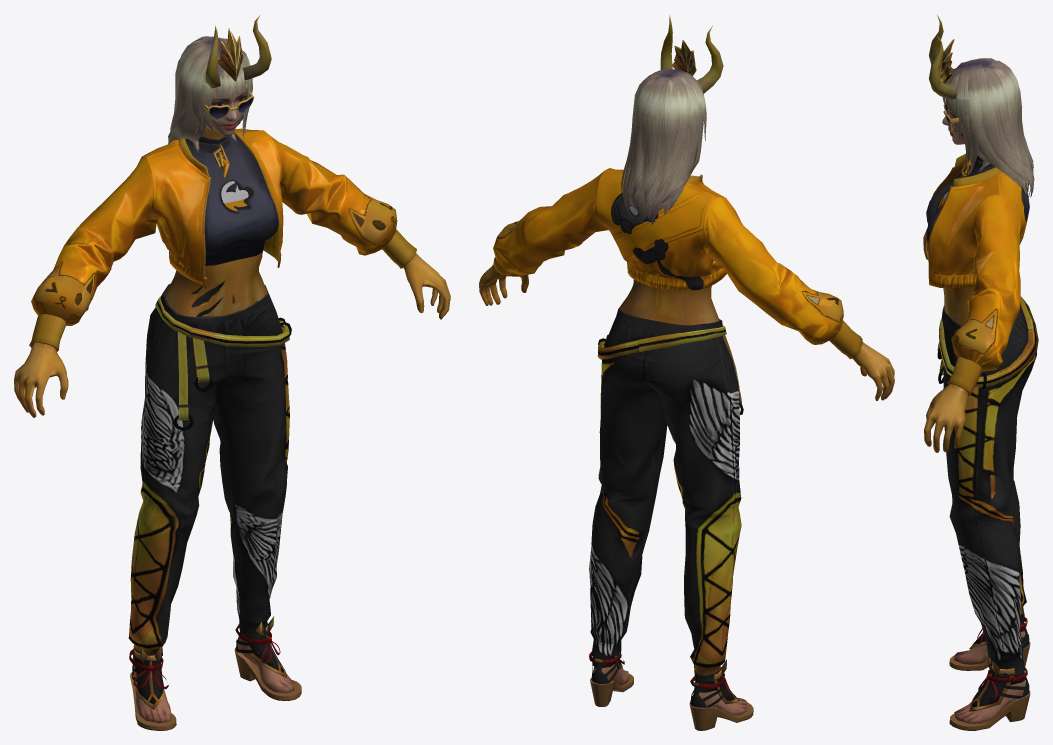
The model's file is new morrou wife.glb.
3 renders of one model, left to right at view 1: azimuth 30°, elevation 25°; view 2: azimuth 150°, elevation 25°; view 3: azimuth 270°, elevation 25°, orthographic. The views are drawn at different scales.
Visible parts, largest first — view 1: new morrou wife; view 2: new morrou wife; view 3: new morrou wife.
Boxes of the visible parts, x1=… form: new morrou wife: x1=14, y1=15, x2=450, y2=730; new morrou wife: x1=479, y1=15, x2=894, y2=730; new morrou wife: x1=923, y1=15, x2=1038, y2=730.
Bounding box in the file's own units: 0.6016 × 0.9469 × 0.1478.
Materials: 8 (8 with a texture image).
